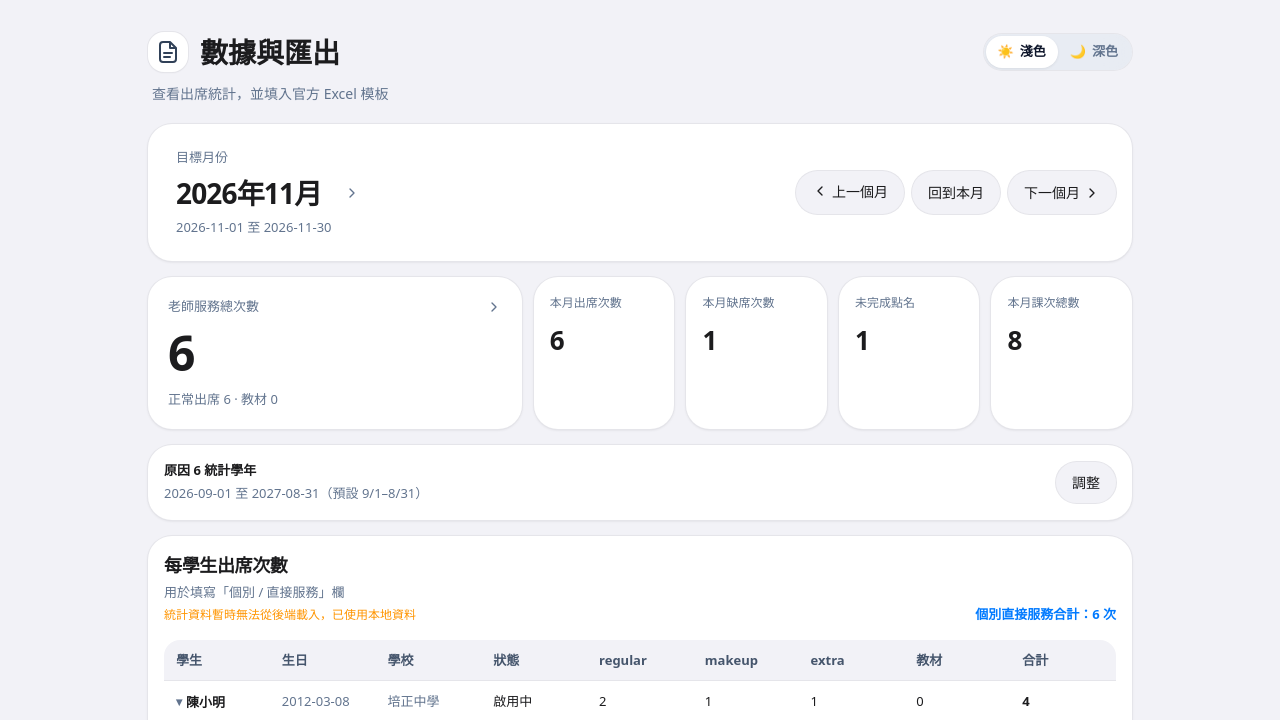
it: DataPage › updates range totals when the teacher-service sheet months change
Click the button "老師服務總次數 6 正常出席 6 · 教材 0": (214, 306) top-left (148, 277), bottom-right (522, 428)
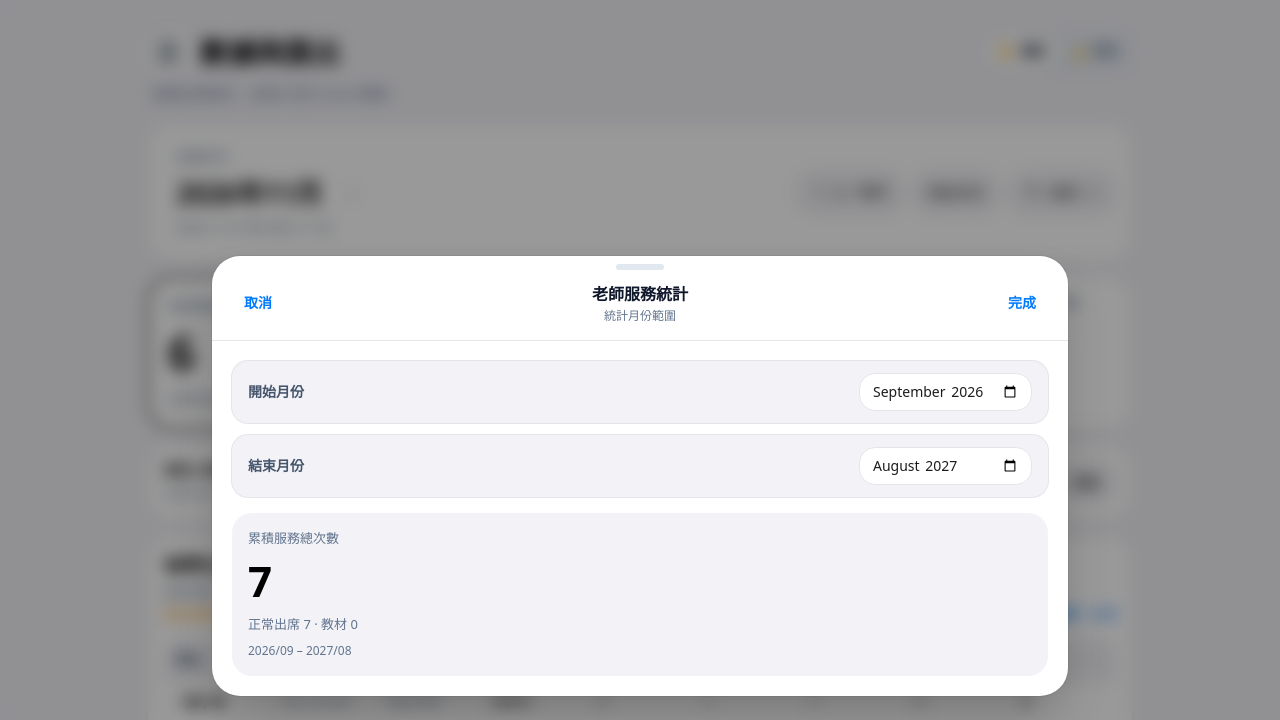
Check: the text "7" is shown, box top-left (248, 552), bottom-right (270, 609)
Replace the text in the field named "開始月份" with "2025-12": (946, 392) top-left (859, 372), bottom-right (1032, 410)
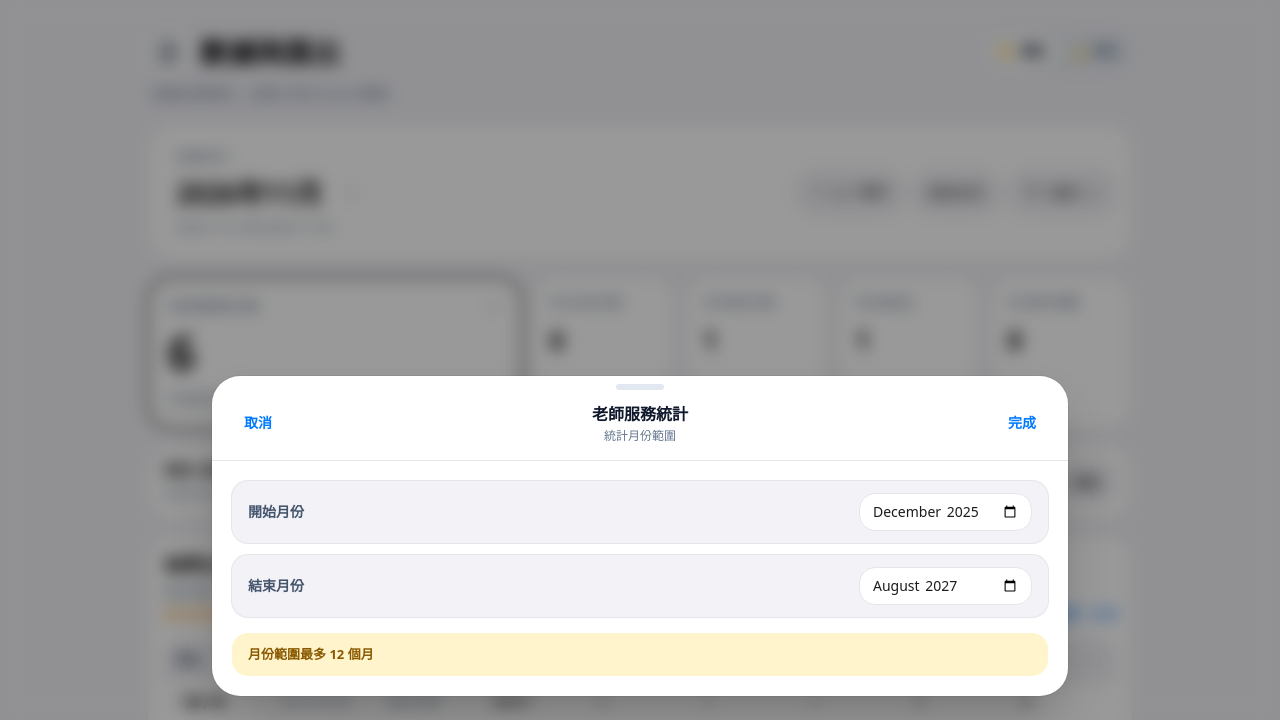
Replace the text in the field named "結束月份" with "2026-01": (946, 586) top-left (859, 566), bottom-right (1032, 604)
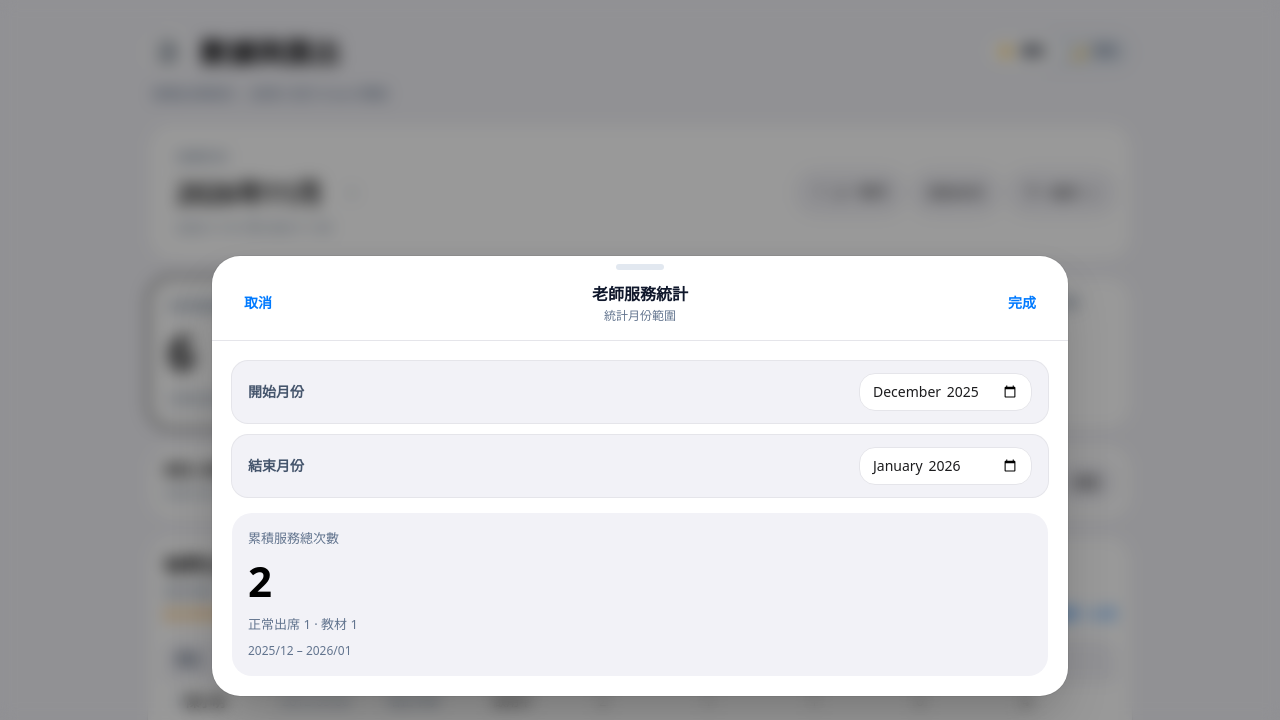
Check: the text "2" is shown, box top-left (248, 552), bottom-right (270, 609)
Check: the text "正常出席 1 · 教材 1" is shown, box top-left (248, 615), bottom-right (358, 633)
